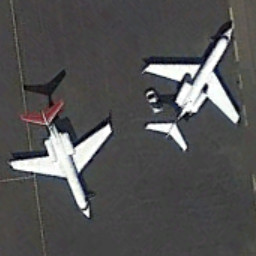Airplane: (130, 13, 248, 162), (5, 101, 120, 224)
